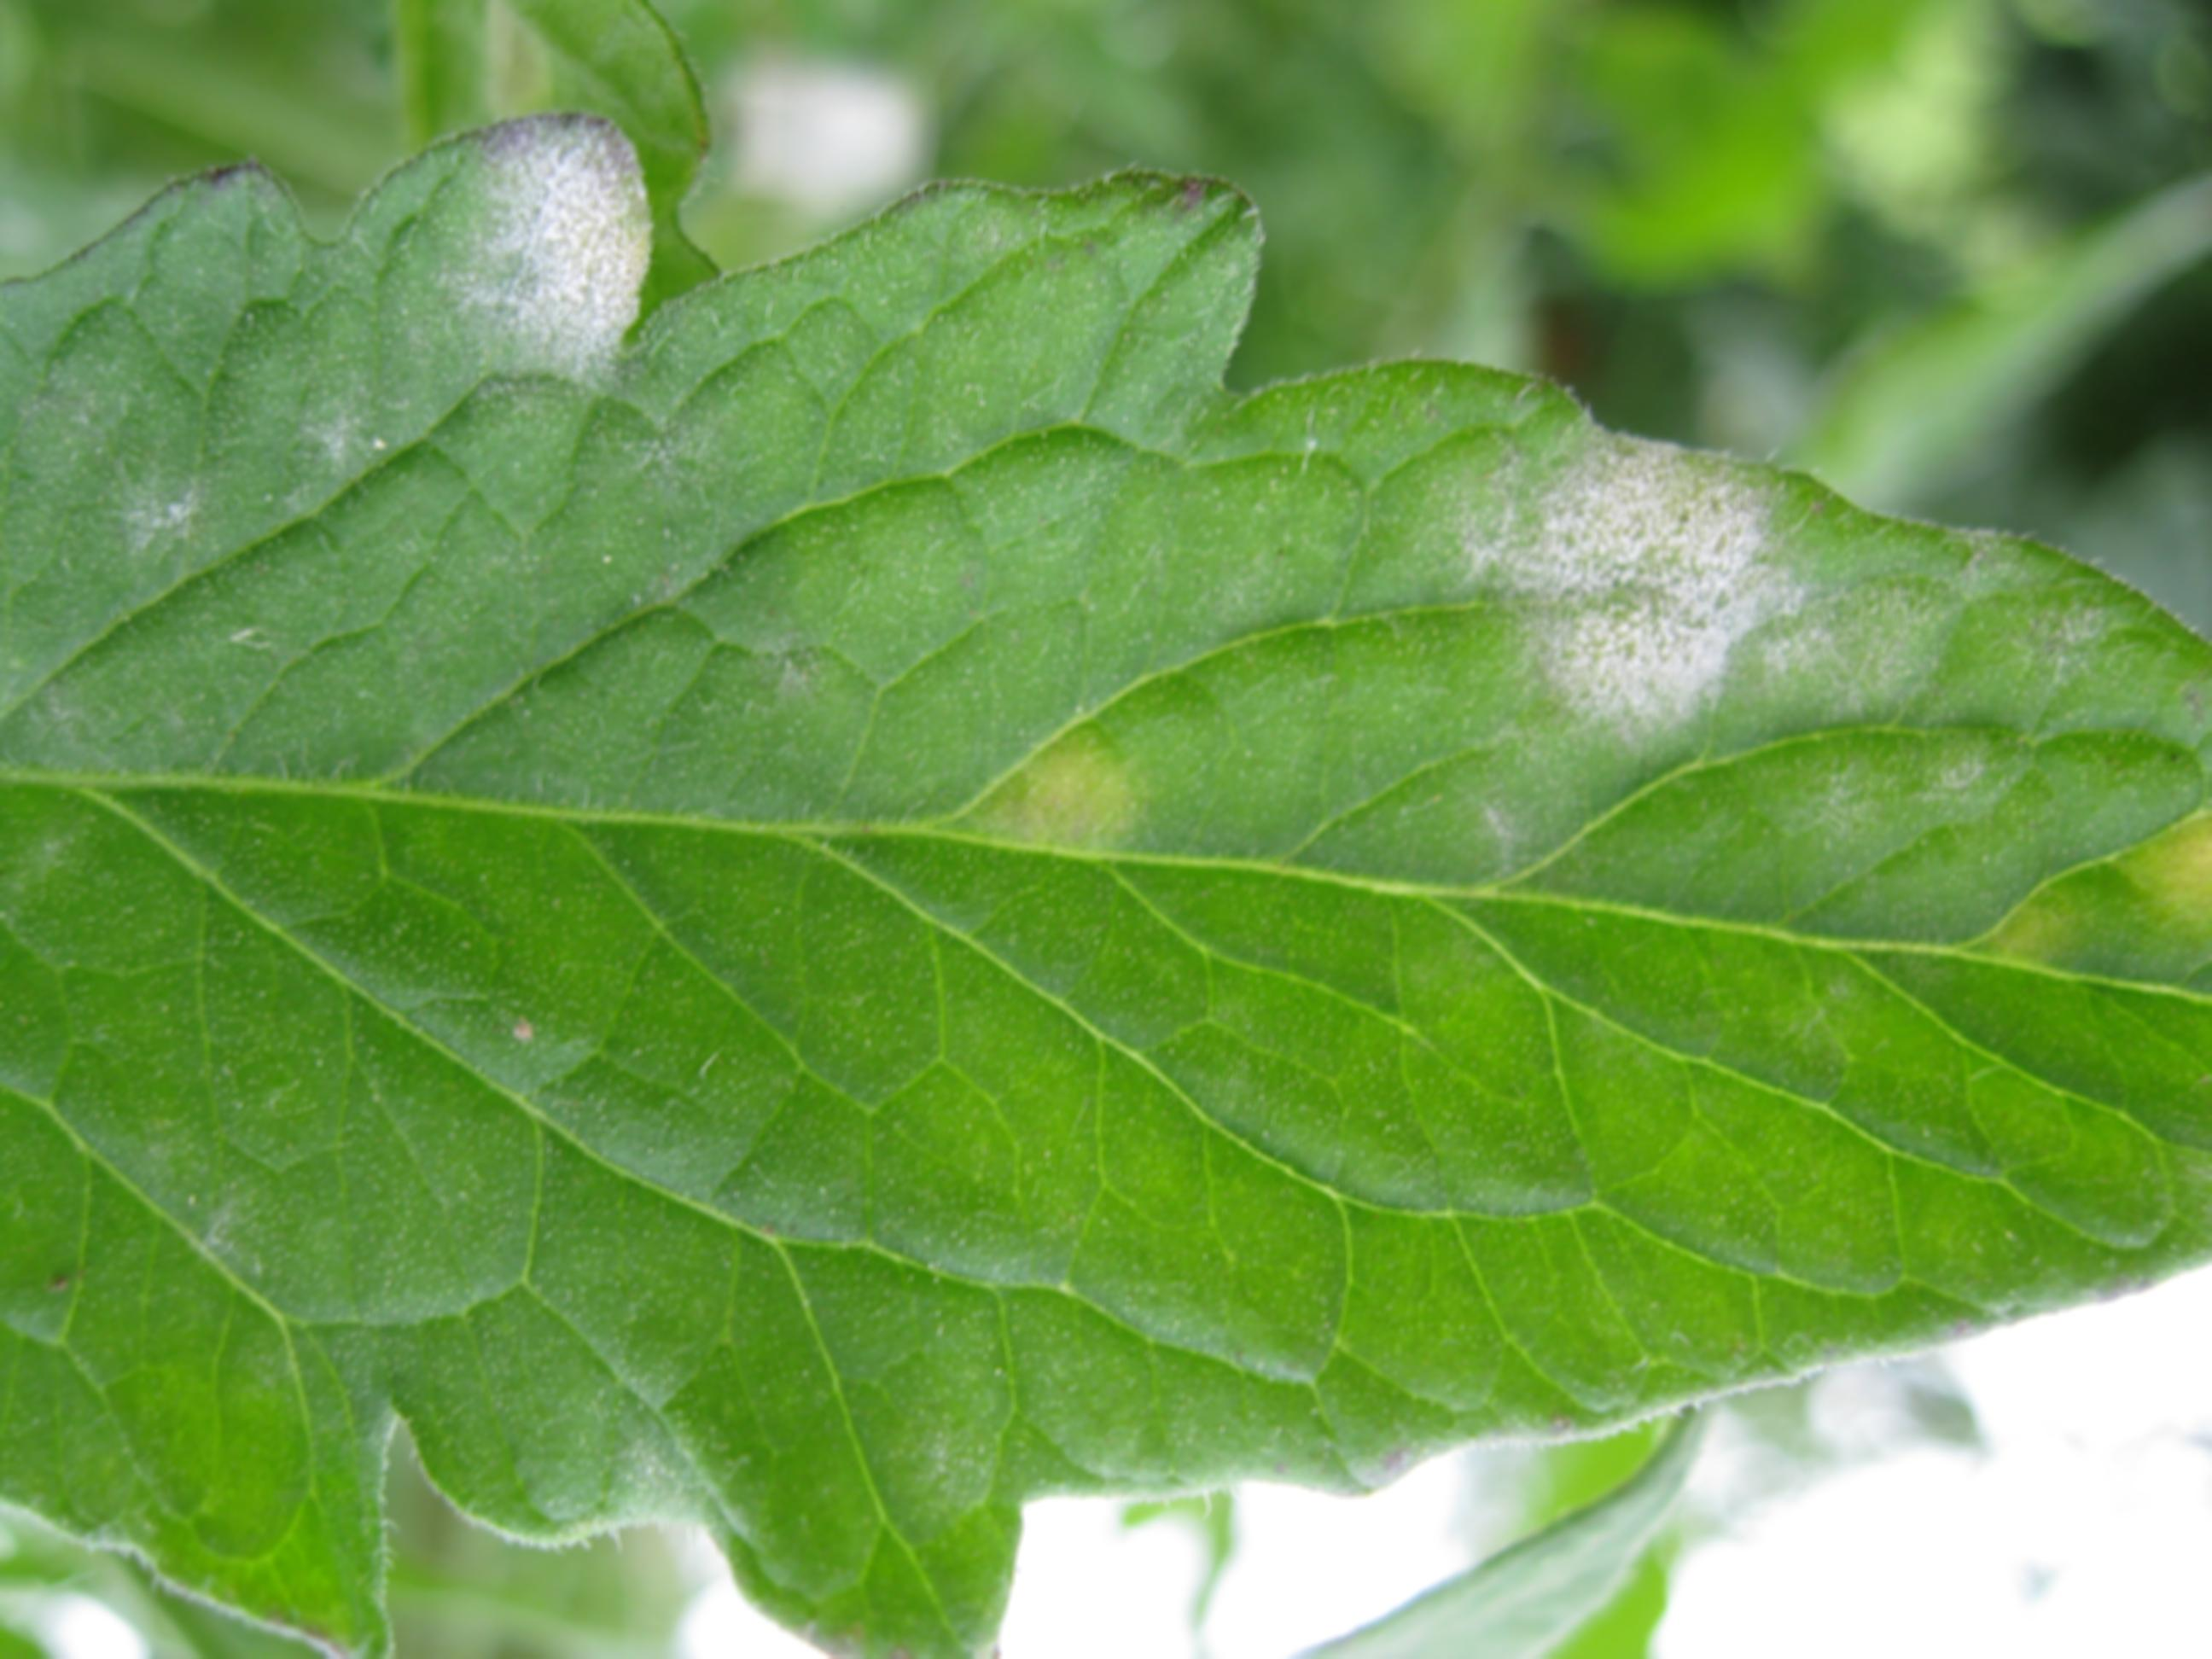Tomato mold leaf: (1, 90, 2206, 1644)
